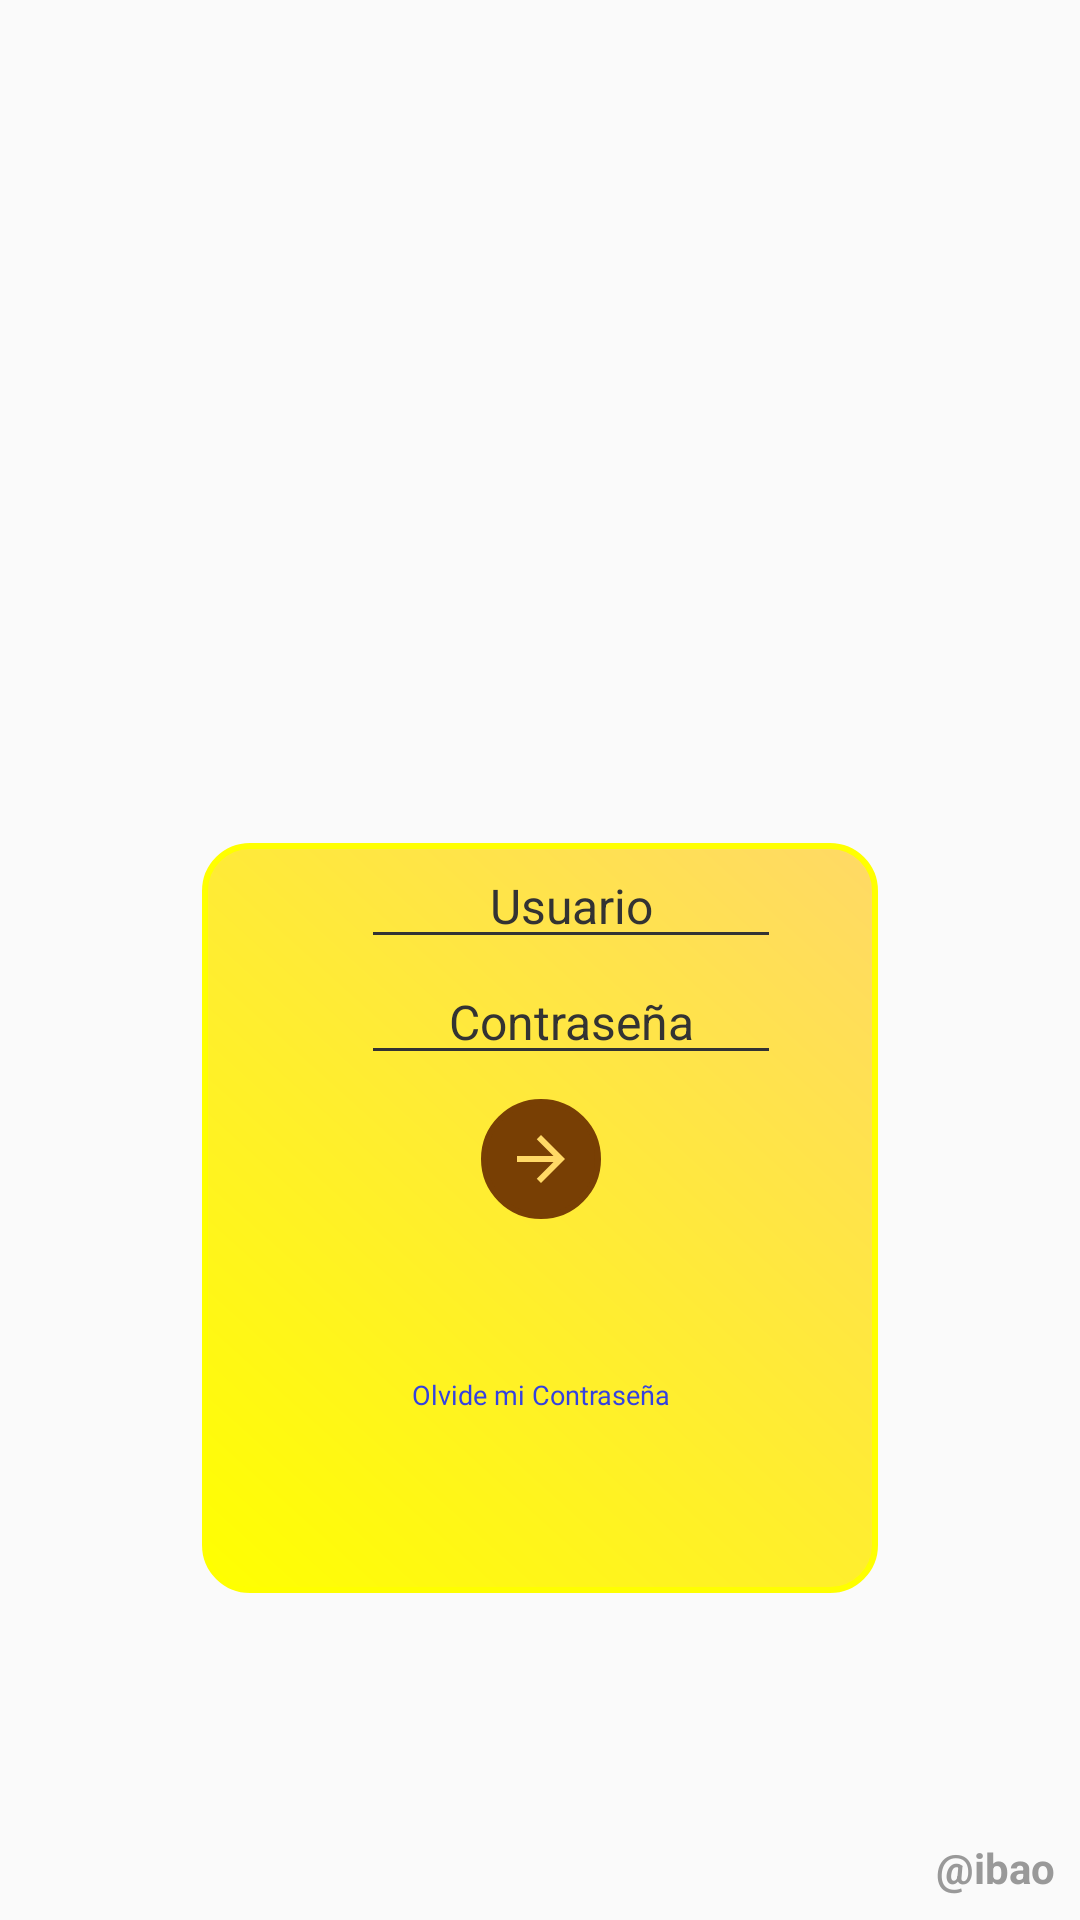

Screen size 1080px x 1920px. Icon name, then its center in pixels as (x=x, y=y):
arrow forward: (x=541, y=1159)
